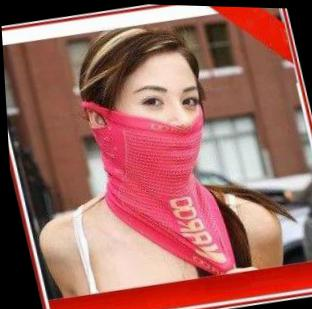WRONG: (109, 69, 221, 192)
